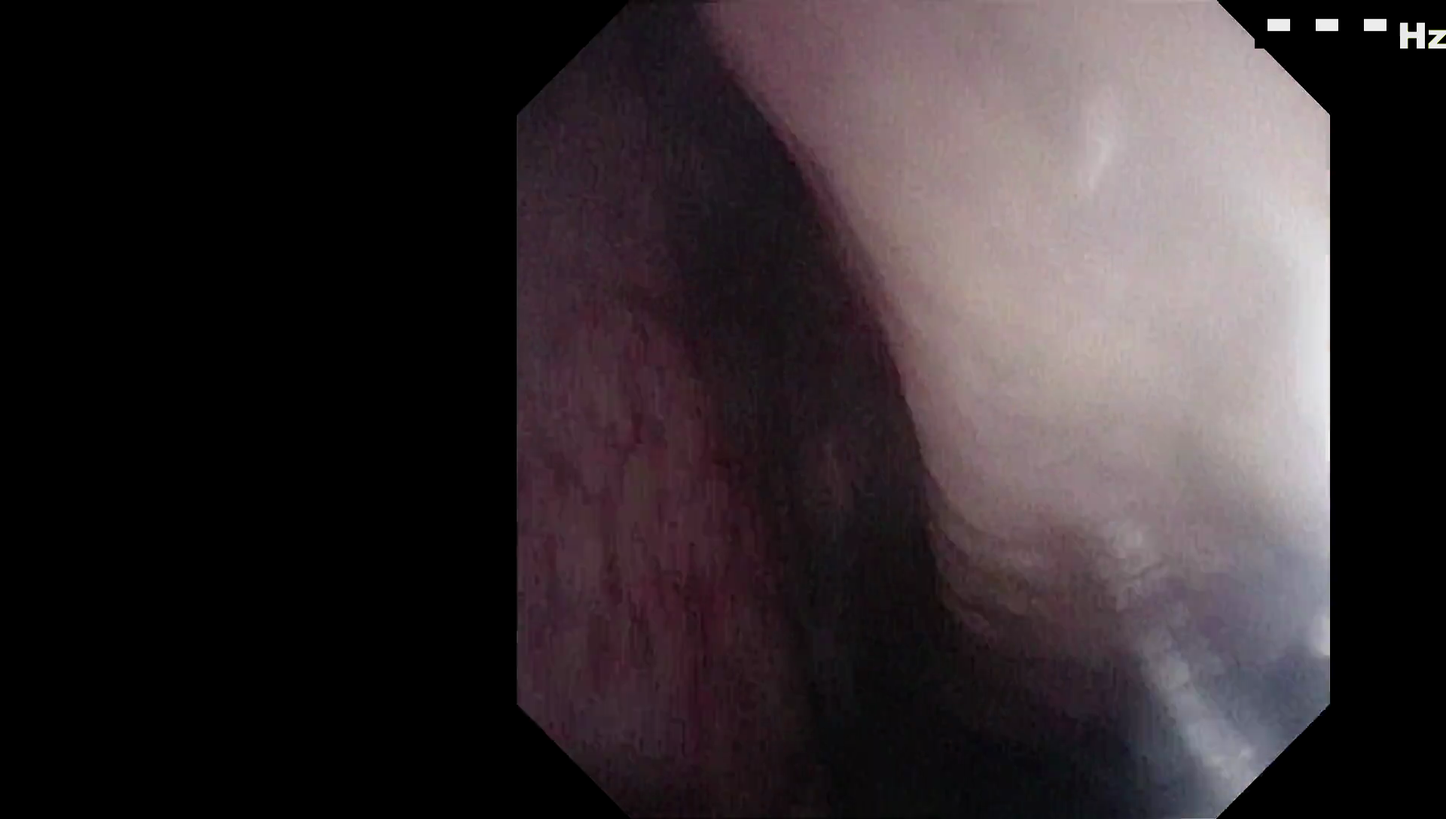close_wall: (864, 43, 1337, 510)
next: (743, 503, 1150, 819), (639, 98, 868, 392)
